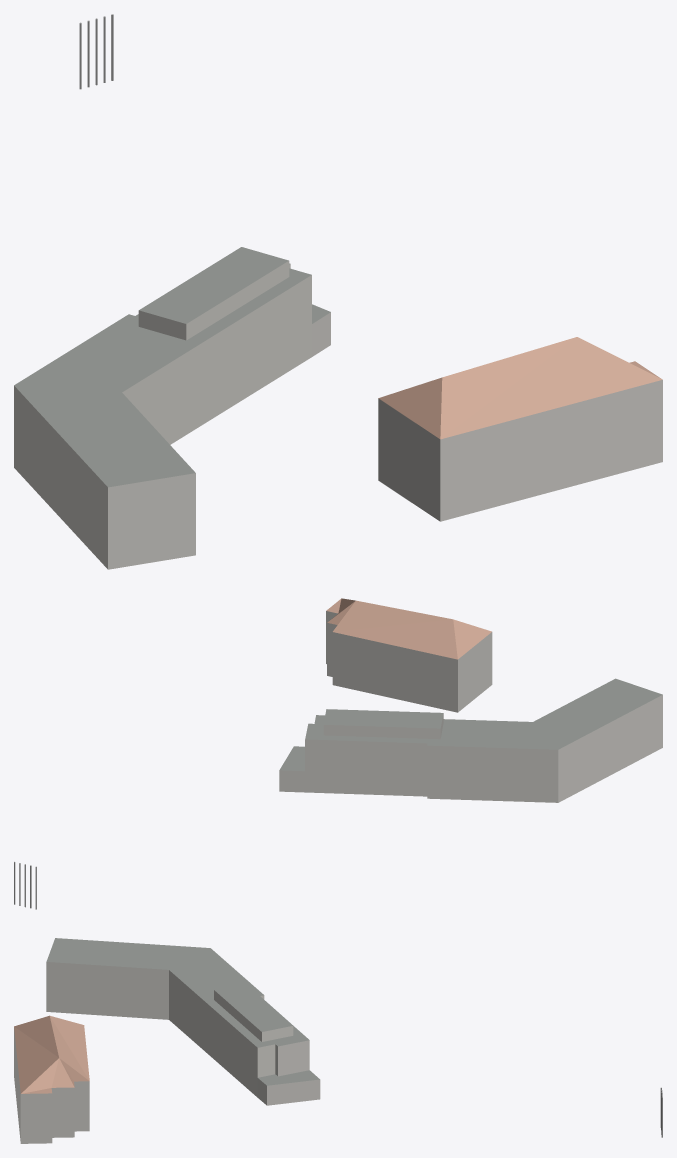
File: gridID_98.dae
The picture shows the model from 3 angles, top to bottom: view 1: azimuth 30°, elevation 25°; view 2: azimuth 150°, elevation 25°; view 3: azimuth 270°, elevation 25°; orthographic projection. The views are drawn at different scales.
Visible parts, largest first — view 1: model_gridID_98_w389190298, model_gridID_98_w383801402_006; view 2: model_gridID_98_w389190298, model_gridID_98_w383801402_006; view 3: model_gridID_98_w389190298, model_gridID_98_w383801402_006.
Part boxes in pixels (left/top/right/bottom): model_gridID_98_w389190298: left=14, top=247, right=330, bottom=569; model_gridID_98_w383801402_006: left=378, top=337, right=662, bottom=521; model_gridID_98_w389190298: left=279, top=678, right=662, bottom=802; model_gridID_98_w383801402_006: left=326, top=598, right=492, bottom=712; model_gridID_98_w389190298: left=46, top=938, right=320, bottom=1105; model_gridID_98_w383801402_006: left=14, top=1015, right=89, bottom=1143.
Size of the model in its own units: 83.67 by 147 by 17.5.
